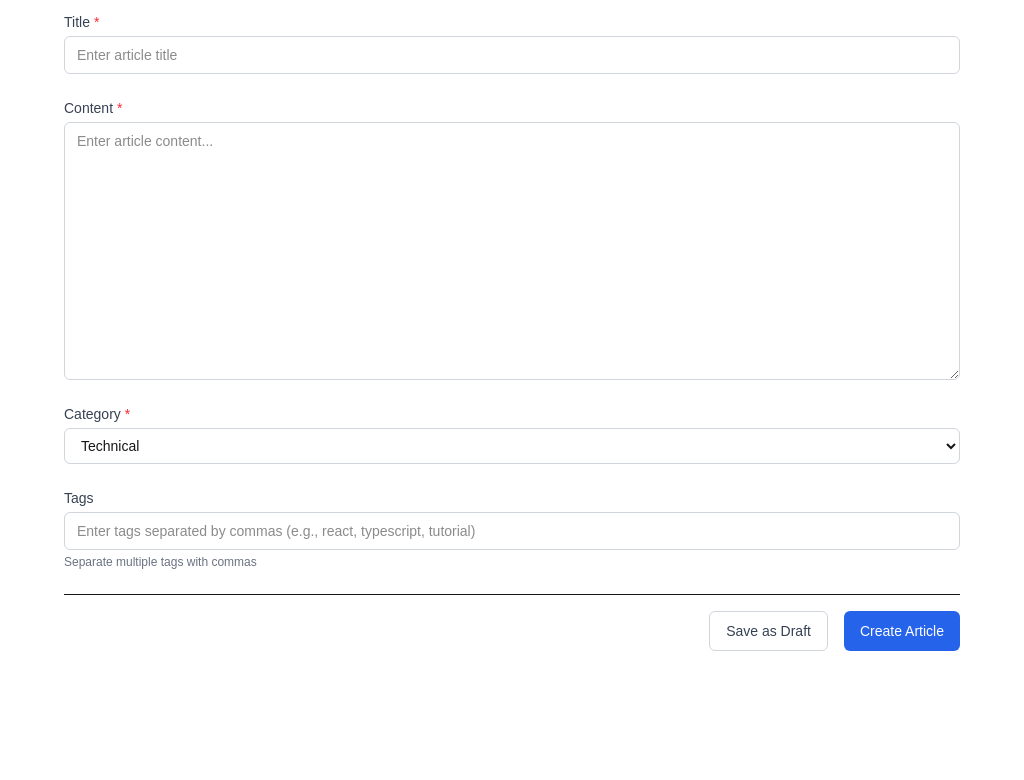
Test: NewCreation › creates an article successfully
# Fill in the form
Type "Test Article" into the field labelled "Title*" at [512, 55], box [64, 36, 960, 74]
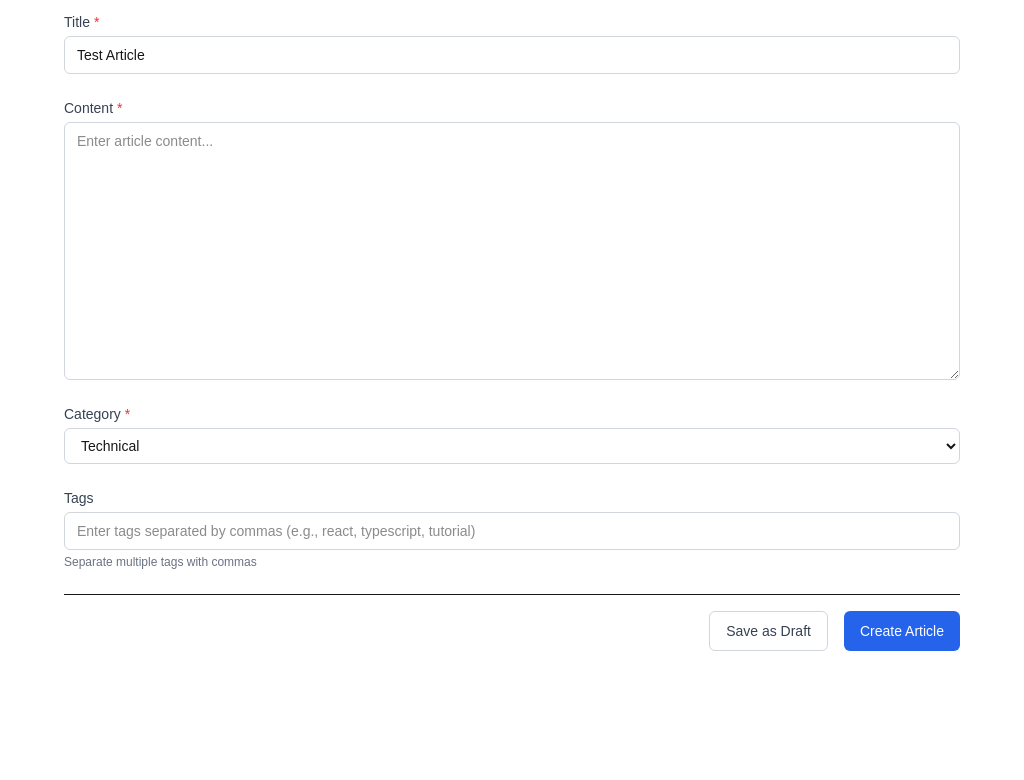
Type "This is test content for the article." into the text box labelled "Content*" at [512, 251], box [64, 122, 960, 380]
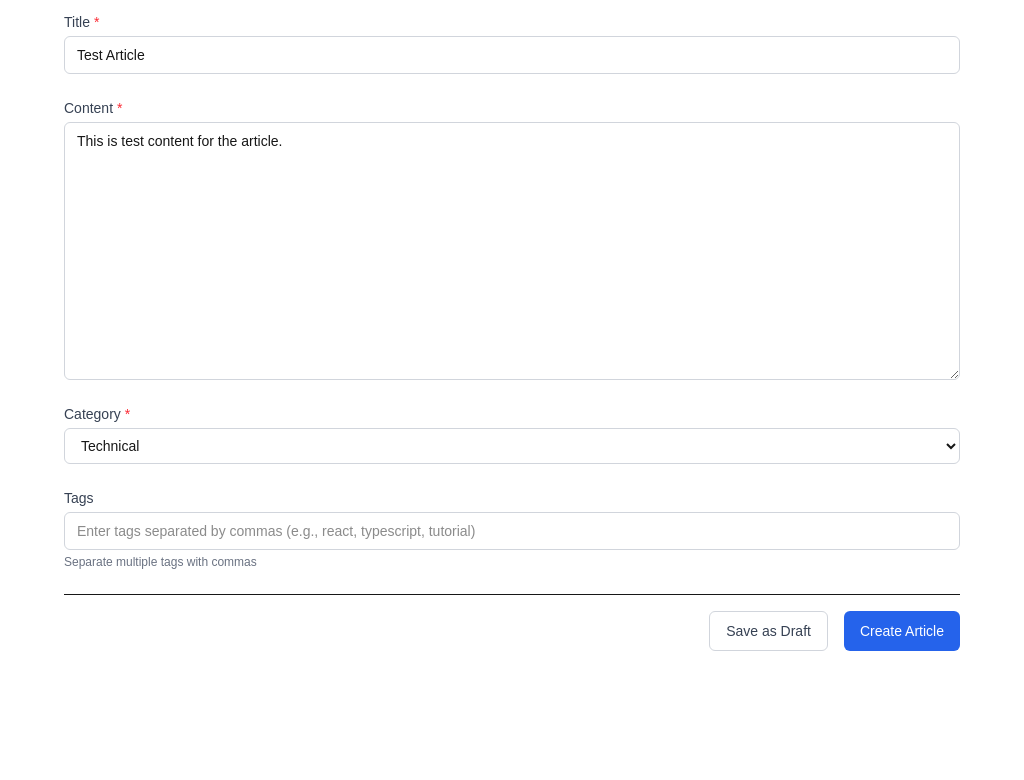
# Submit the form
Click the button "Create Article" at [902, 631], box [844, 611, 960, 651]
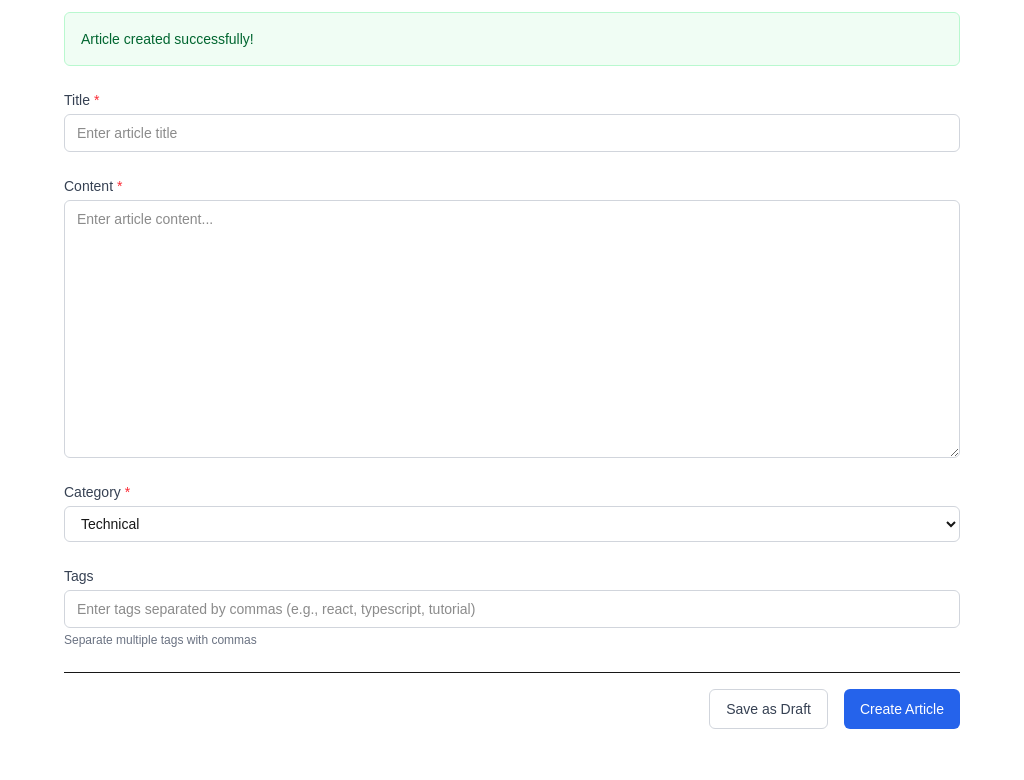
Expected: the text "Article created successfully!" is shown, [81, 31, 254, 47]
